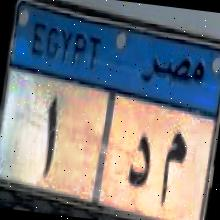1: (34, 92, 67, 173)
daal: (122, 130, 157, 190)
meem: (156, 126, 190, 208)
